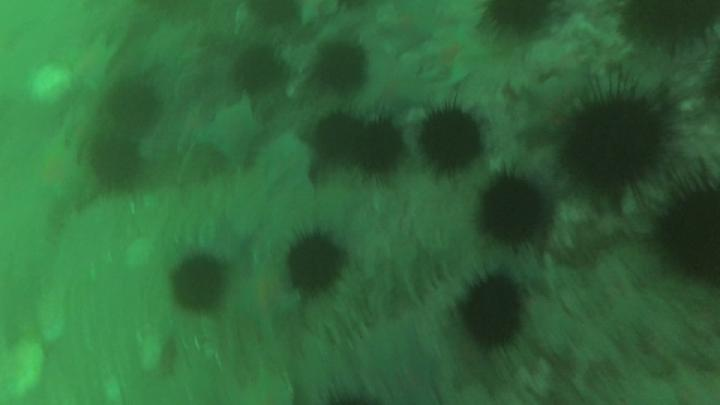echinus: (566, 98, 664, 188), (664, 188, 720, 286), (481, 174, 544, 245), (464, 274, 524, 345), (421, 111, 482, 173), (629, 1, 720, 39), (288, 236, 341, 295), (170, 256, 224, 311), (356, 121, 406, 175), (89, 138, 138, 186), (318, 46, 368, 92), (106, 85, 158, 129), (234, 49, 284, 94), (315, 113, 361, 157), (489, 1, 547, 31)
holothurian: (311, 242, 455, 342)
scallop: (32, 63, 82, 105)
starfish: (421, 27, 488, 80), (382, 5, 432, 55)
